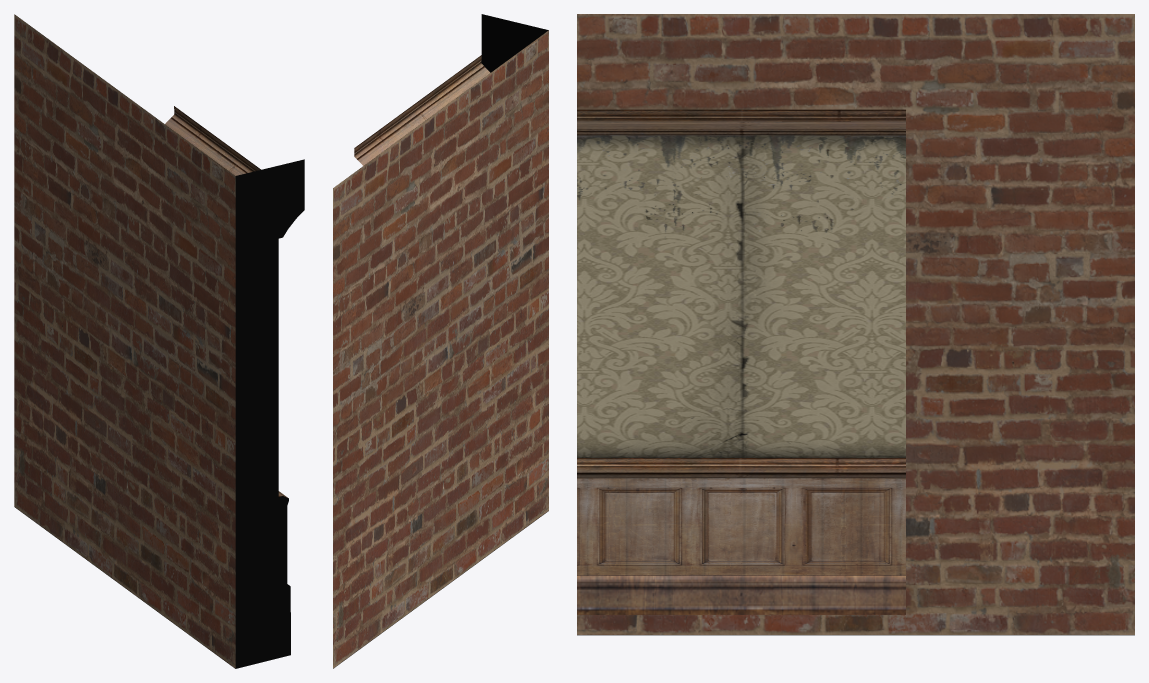
The model's file is Corridor_ExternalWall.FBX.
The picture shows the model from 3 angles, left to right: view 1: azimuth 30°, elevation 25°; view 2: azimuth 150°, elevation 25°; view 3: azimuth 270°, elevation 25°; orthographic projection. The views are drawn at different scales.
Visible parts, largest first — view 1: SideWall_Outdoor1; view 2: SideWall_Outdoor1; view 3: SideWall_Outdoor1.
Boxes of the visible parts, x1,y1,x2,y2 form: SideWall_Outdoor1: (14, 14, 304, 668); SideWall_Outdoor1: (333, 14, 548, 668); SideWall_Outdoor1: (577, 14, 1134, 635).
Size of the model in its own units: 14.69 by 100 by 81.43.
4 materials, 3 textured.
